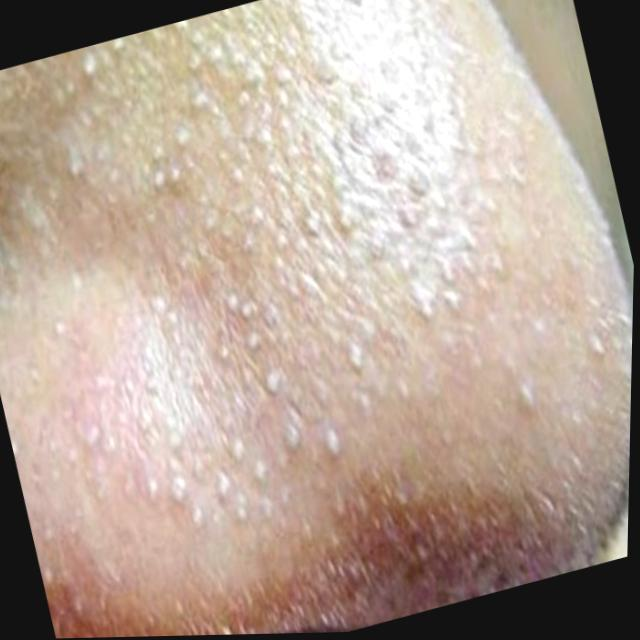whitehead: (0, 0, 626, 577)
